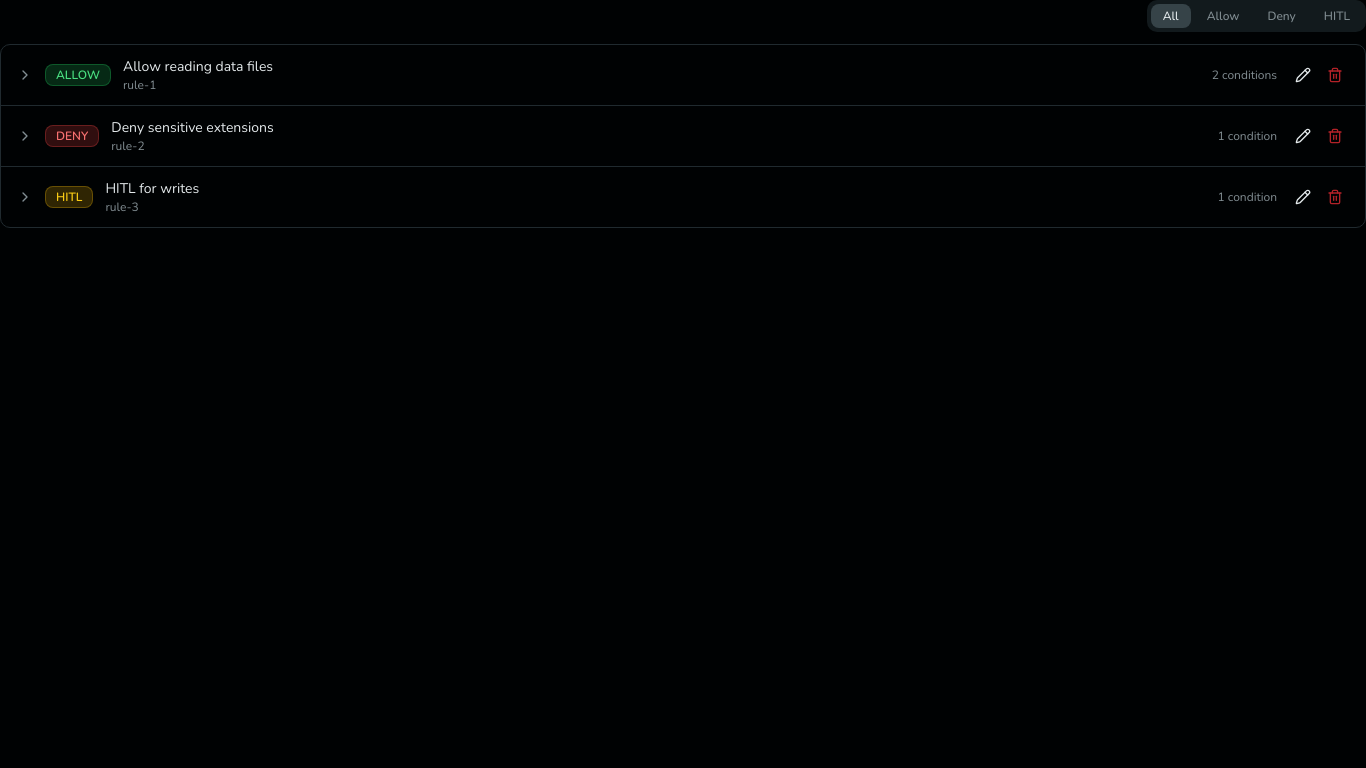
it: PolicyRulesList › edit/delete › opens AlertDialog on delete click, shows "Delete Rule" and rule description
Click the 2nd button named "Delete" at (1335, 75), box top-left (1321, 61), bottom-right (1349, 89)
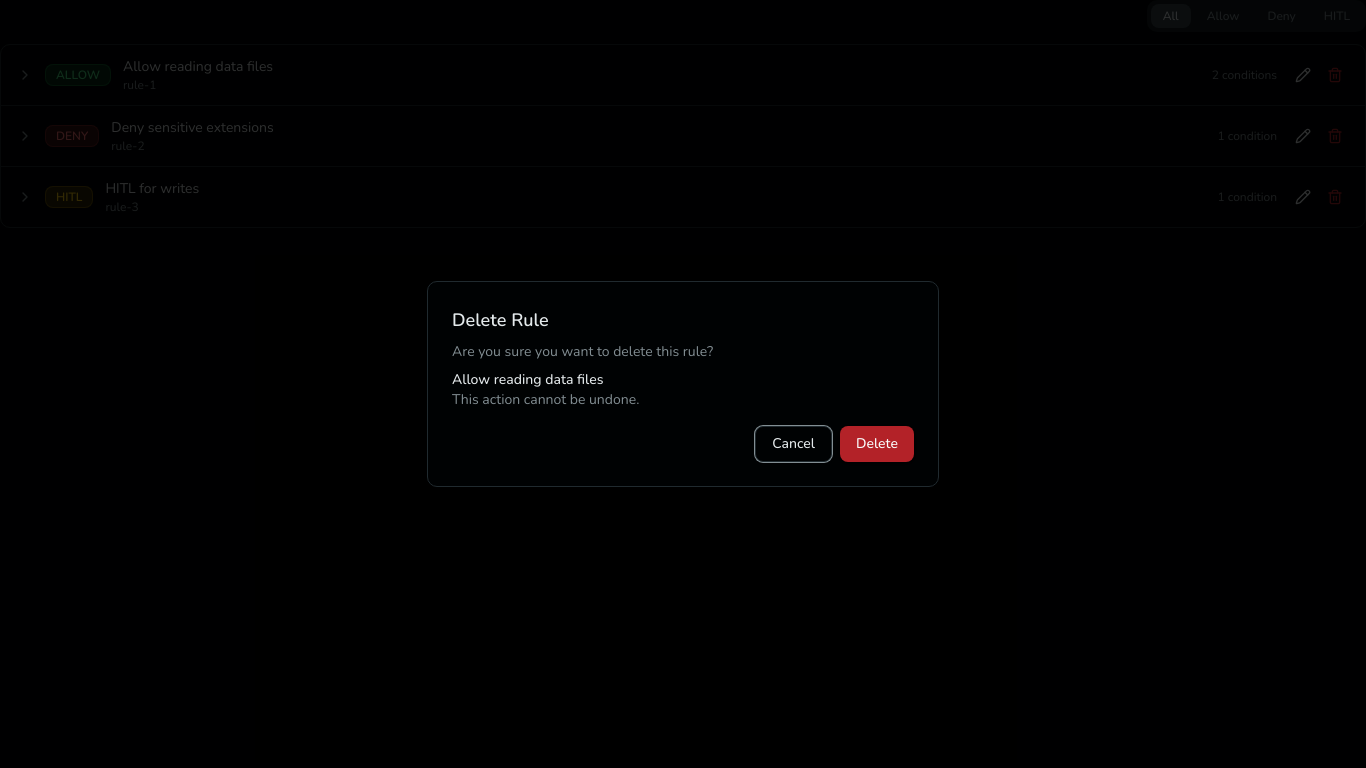
Check: the text "Allow reading data files" is shown 2 times, box top-left (123, 57), bottom-right (273, 76); top-left (452, 370), bottom-right (604, 389)
Check: the dialog is shown, box top-left (427, 281), bottom-right (939, 487)
Check: the heading "Delete Rule" is shown, box top-left (452, 308), bottom-right (549, 332)
